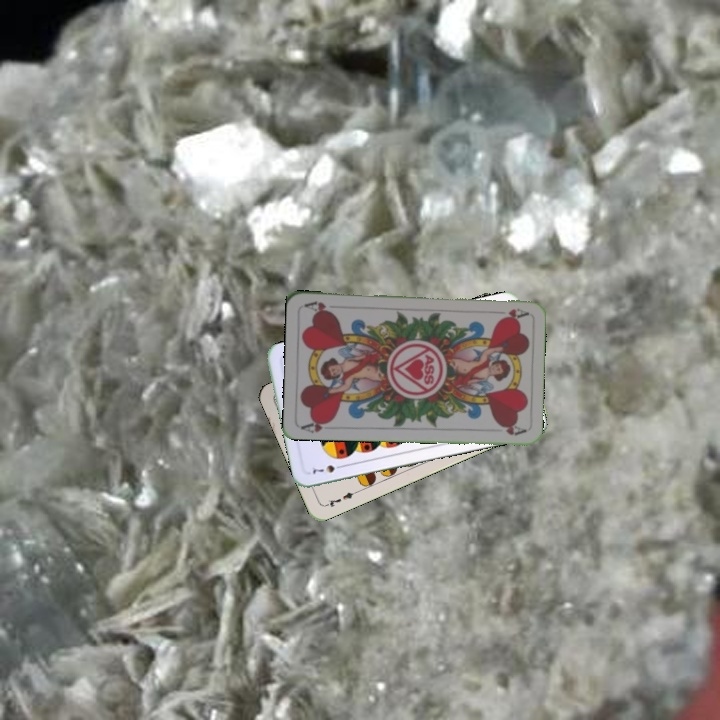E7: (321, 487, 360, 509)
HA: (297, 415, 336, 435), (489, 304, 530, 320)
S7: (308, 461, 347, 477)
